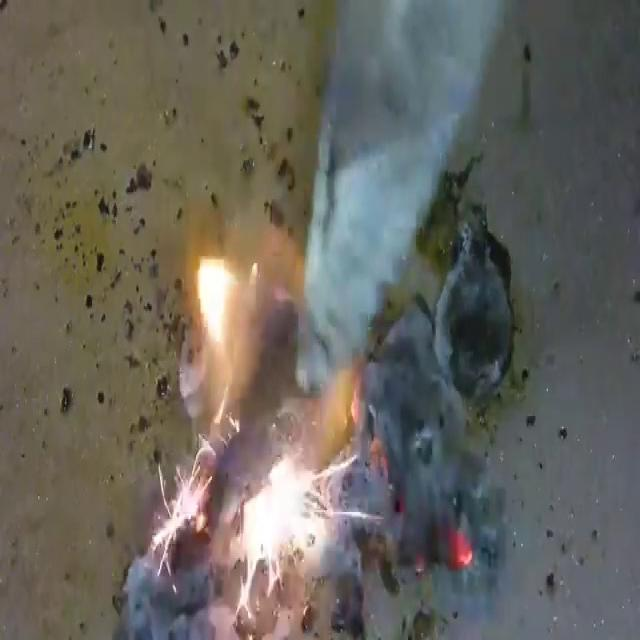Fire: (171, 215, 381, 608)
